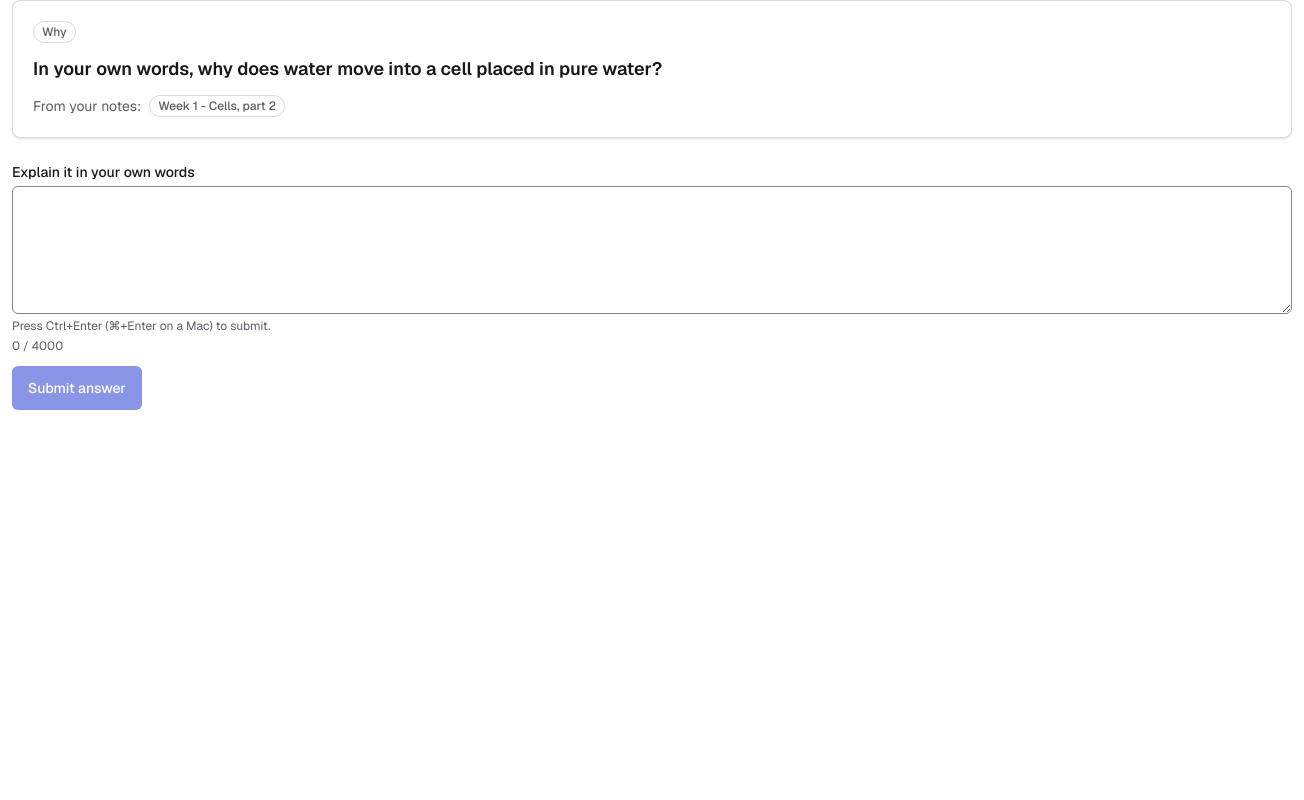
Scenario: PracticeSession › shows feedback after an answer, then a fresh form on Next question
Type "Water moves toward more solute." into the text box labelled "Explain it in your own words" at {"x": 652, "y": 250}, box [12,186,1292,314]
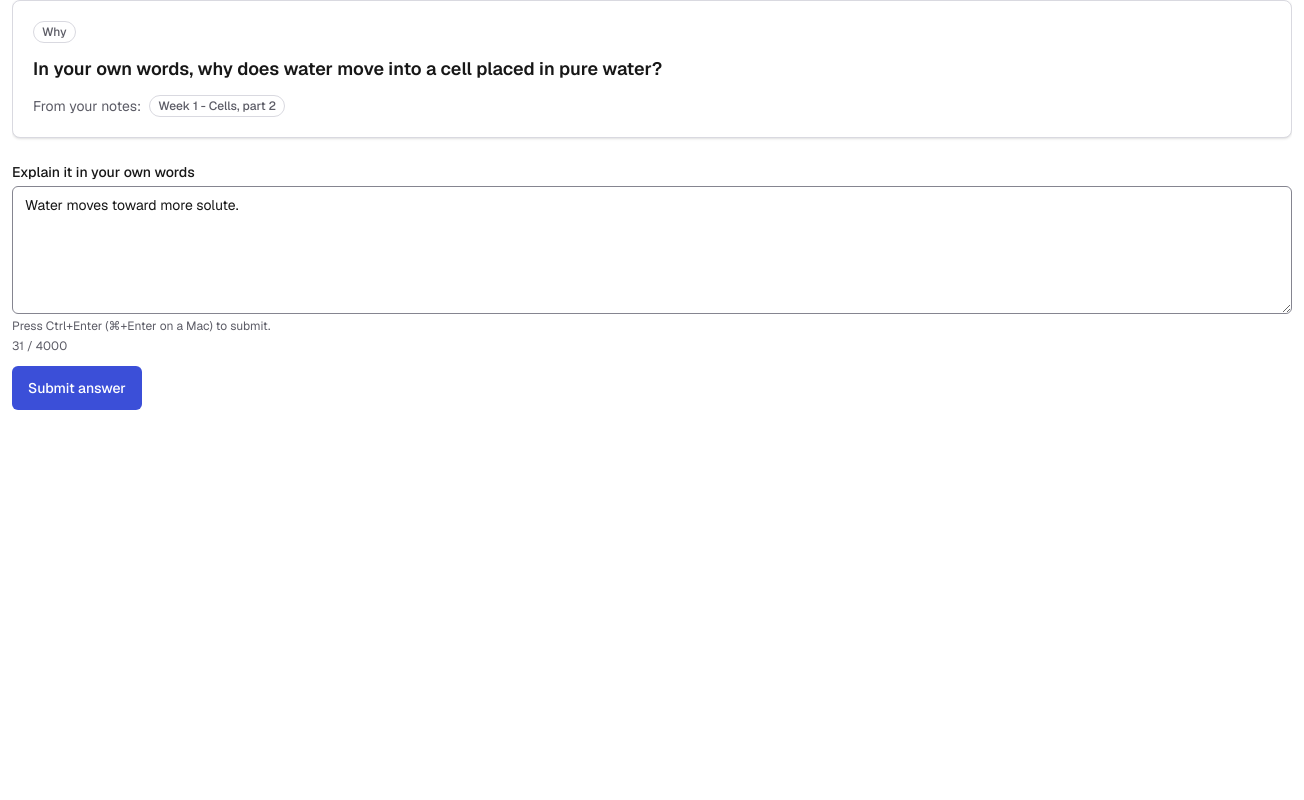
Click the button "Submit answer" at {"x": 77, "y": 388}, box [12,366,142,410]
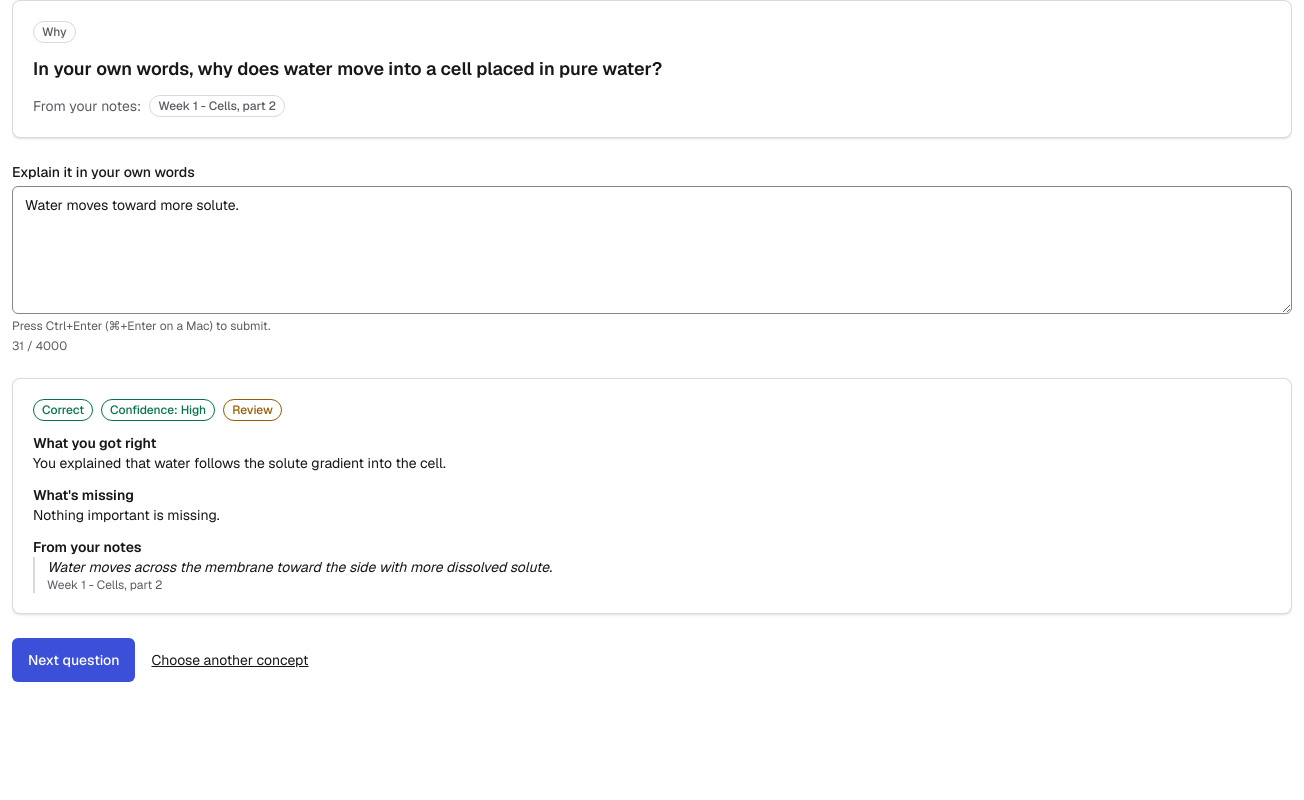
Now the element named "Feedback" shows "Correct", box [42,402,84,418]
Now the element named "Feedback" shows "You explained that water follows the solute gradient into the cell.", box [33,454,446,472]
Now the element named "Feedback" shows "Review", box [232,402,273,418]
Click the button "Next question" at {"x": 74, "y": 660}, box [12,638,136,682]
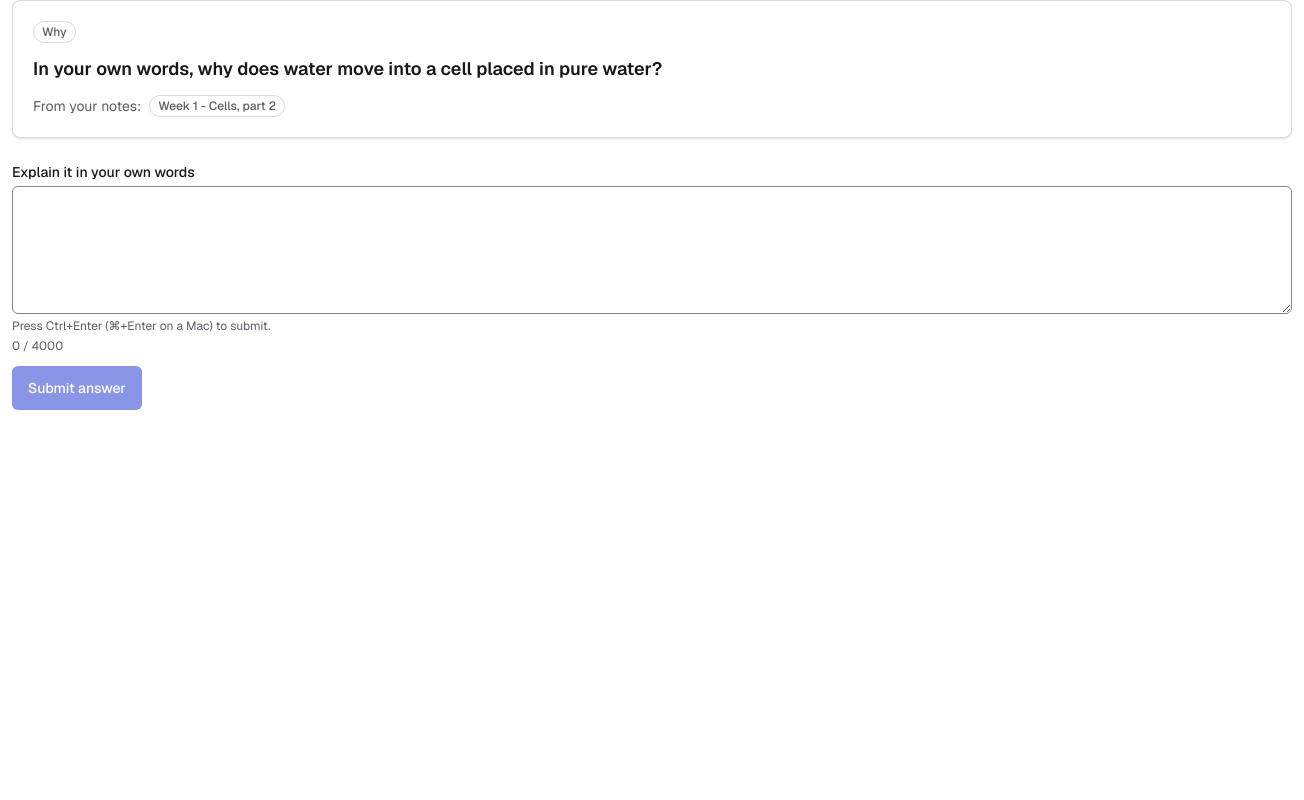
Expected: the heading "In your own words, why does water move into a cell placed in pure water?" is shown, [33,57,662,80]
Now the text box labelled "Explain it in your own words" is empty, box [12,186,1292,314]
Now the element "Feedback" is gone
